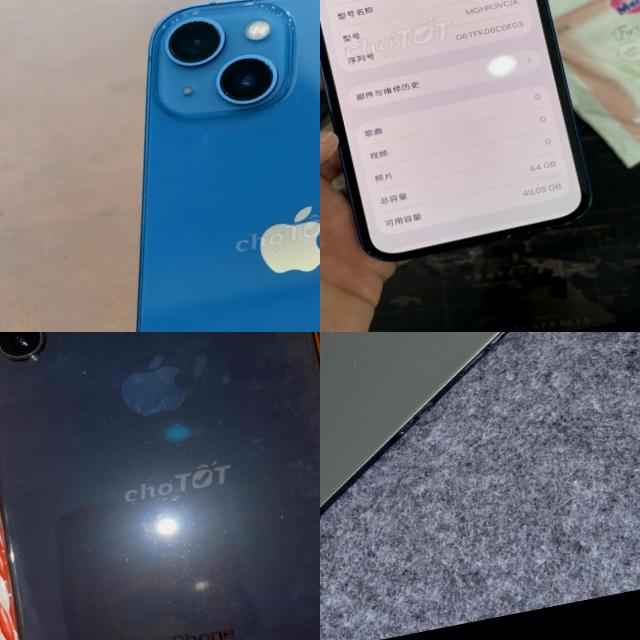gen_12_13: (42, 0, 320, 332), (320, 332, 630, 585), (320, 0, 604, 270)
gen_x_xs: (0, 332, 320, 640)
